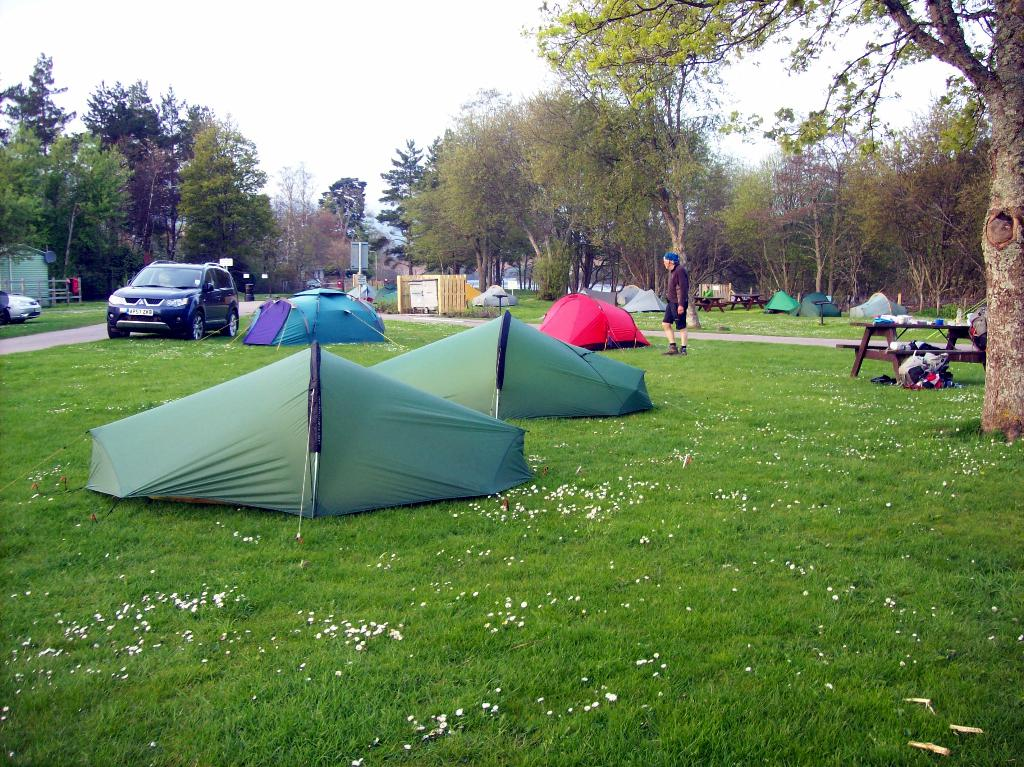cars: (94, 250, 229, 335), (3, 291, 40, 322)
